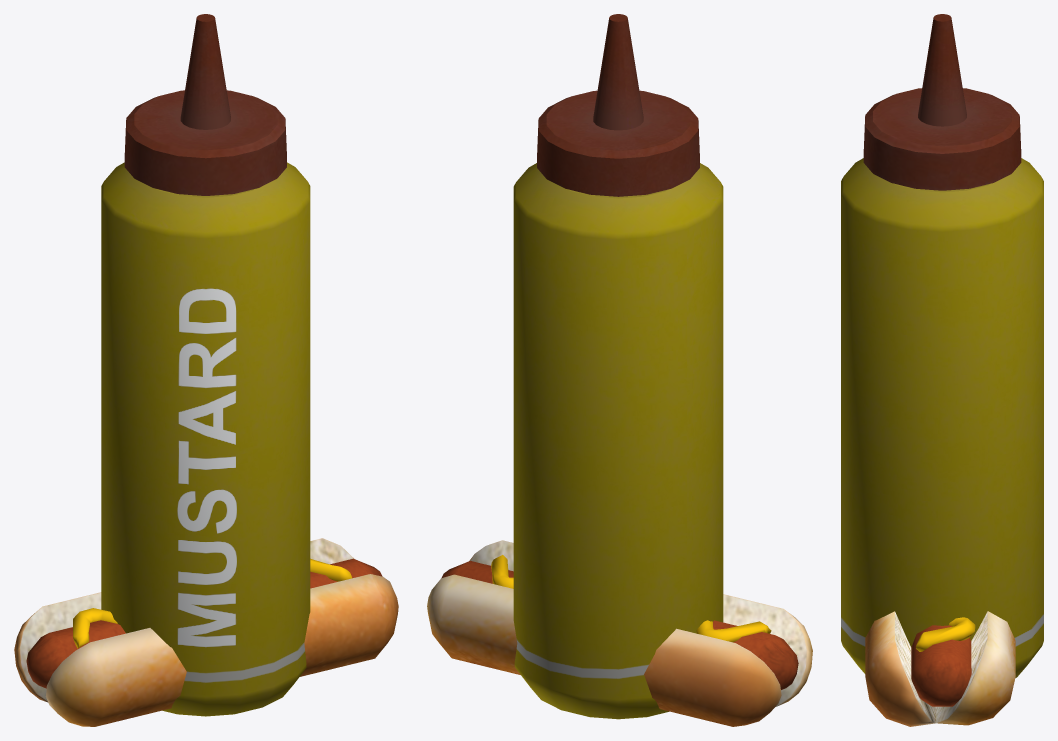
File: accesorios.fbx
The picture shows the model from 3 angles, left to right: view 1: azimuth 30°, elevation 25°; view 2: azimuth 150°, elevation 25°; view 3: azimuth 270°, elevation 25°; orthographic projection. The views are drawn at different scales.
Parts seen in each view (by area): view 1: Plastic-bottle-mustard, Hotdog; view 2: Plastic-bottle-mustard, Hotdog; view 3: Plastic-bottle-mustard, Hotdog.
Boxes of the visible parts, x1,y1,x2,y2 form: Plastic-bottle-mustard: (101,14,310,716); Hotdog: (14,538,398,726); Plastic-bottle-mustard: (513,14,723,719); Hotdog: (427,540,812,726); Plastic-bottle-mustard: (841,14,1043,677); Hotdog: (865,611,1015,726).
Size of the model in its own units: 0.2008 by 0.3589 by 0.1025.
5 materials, 4 textured.
